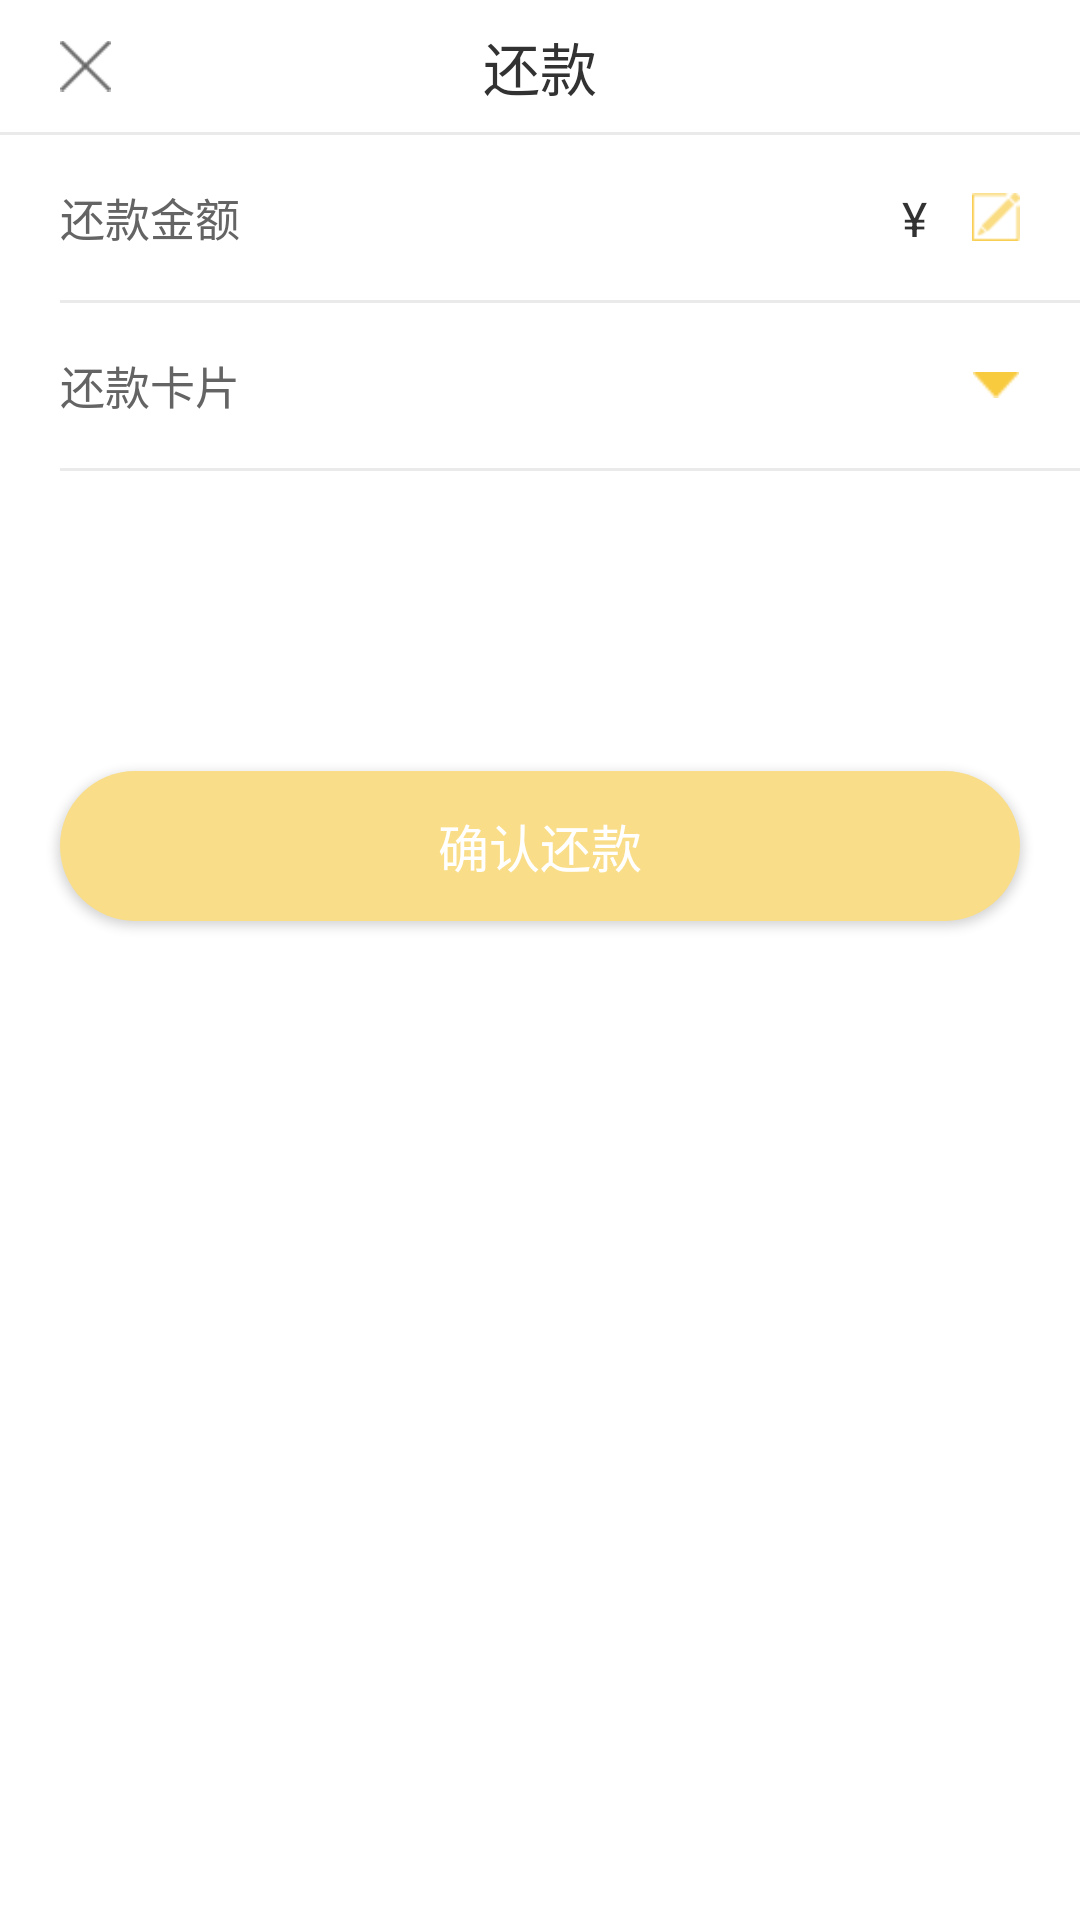

Where to tap for icons on this 1080x1920 app screen, as point (x, y):
close: point (85, 66)
diolog itemedit: point (996, 217)
itemdrop: point (996, 385)
